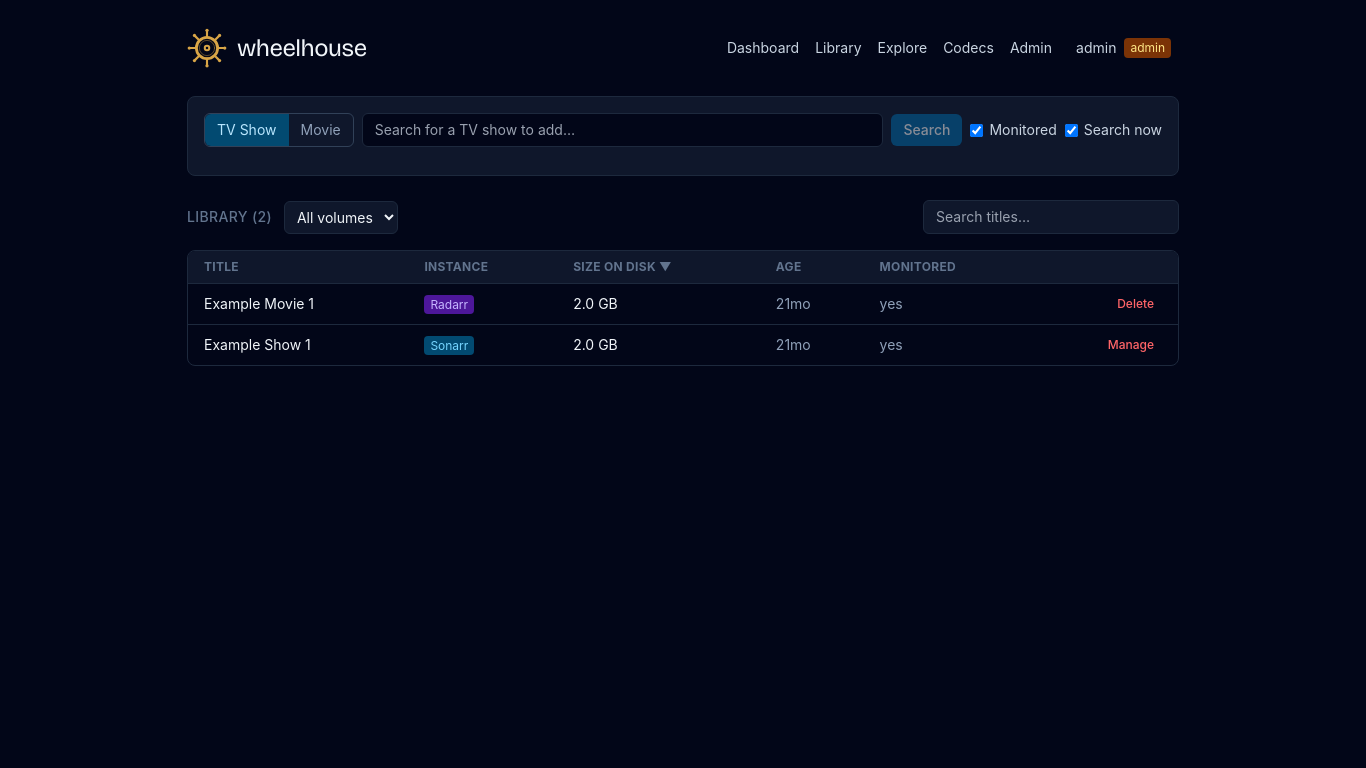
Scenario: deleting a movie › sends nothing until the user confirms, then sends confirm=true
Click the button "Delete" at [1136, 304], box [1109, 292, 1162, 316]
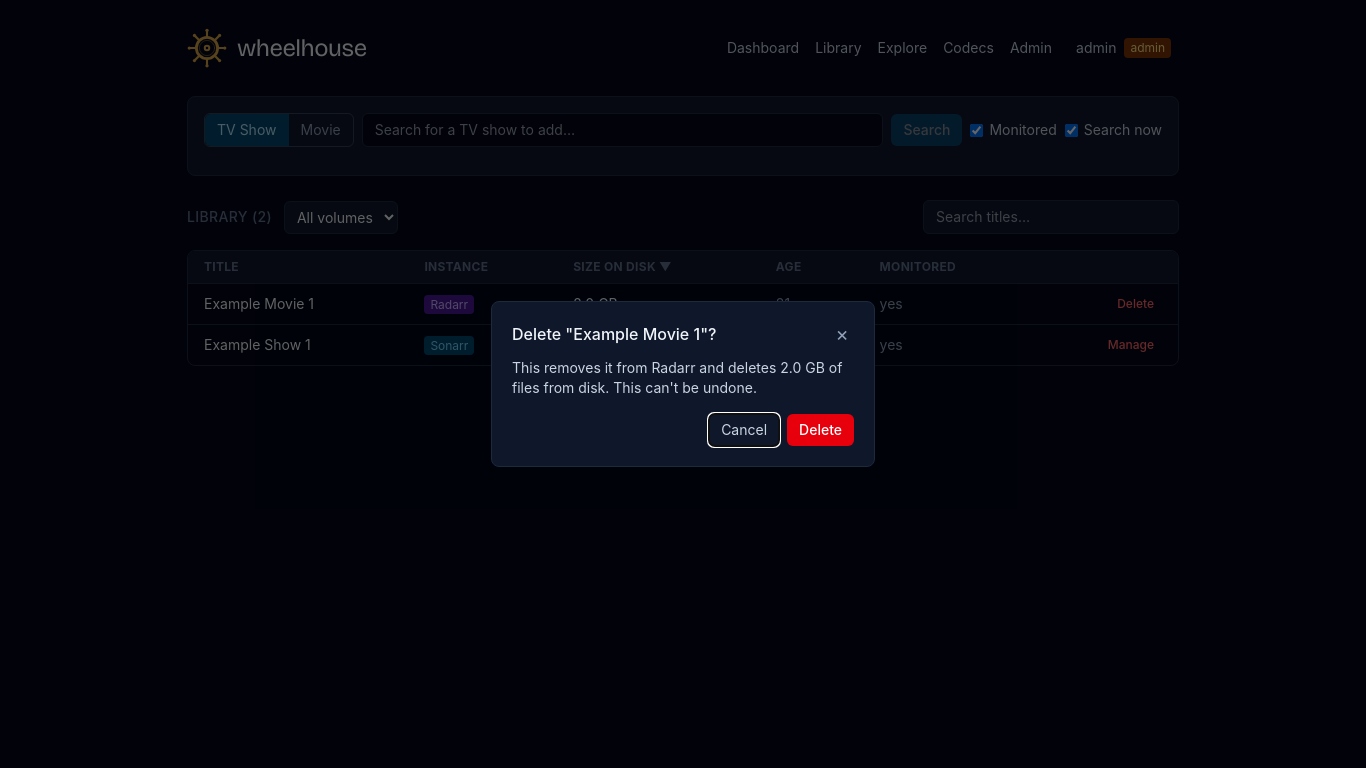
Now the heading "Delete \"Example Movie 1\"?" is shown, box [512, 322, 716, 346]
Now the text "deletes 2.0 GB of files from disk" is shown, box [512, 359, 842, 396]
Click the button "Delete" at [821, 430], box [787, 414, 854, 446]
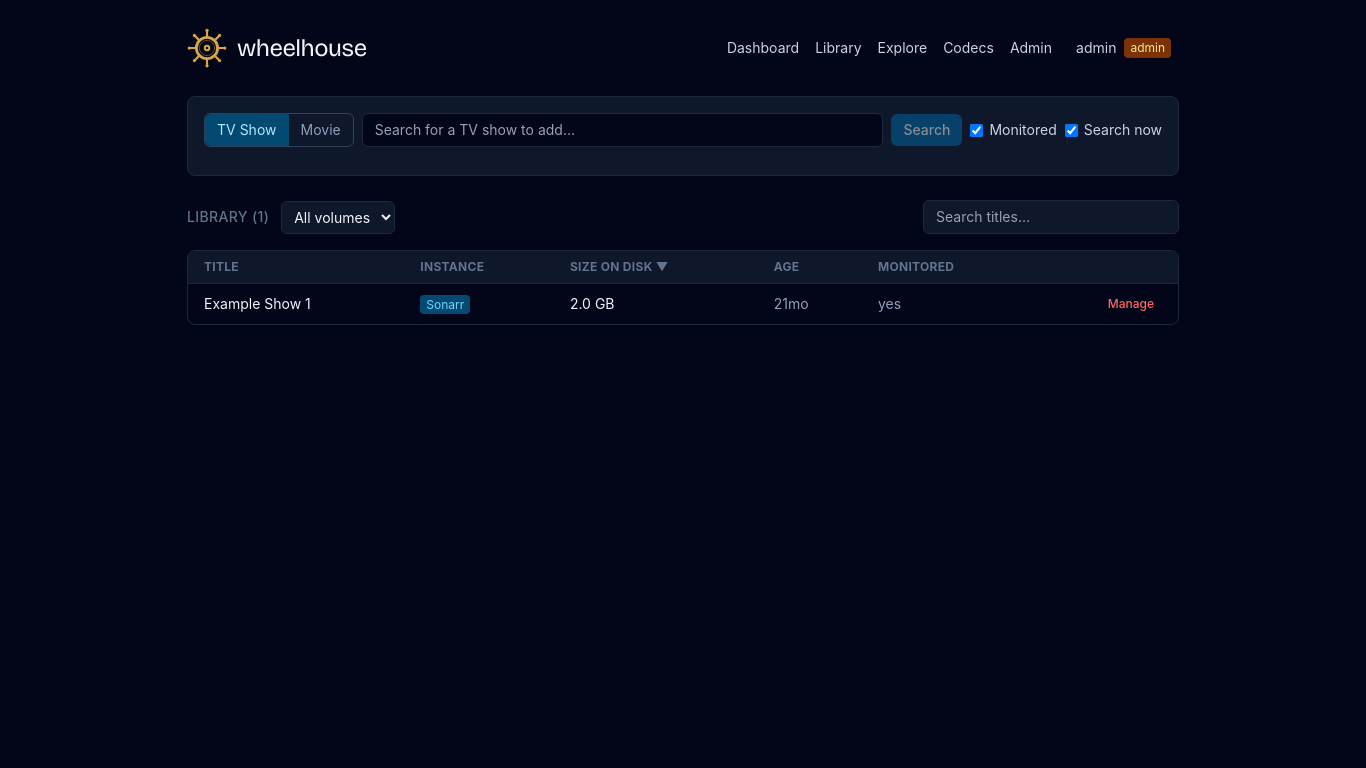
Now the button "Example Movie 1" is gone
Now the heading "Delete \"Example Movie 1\"?" is gone
